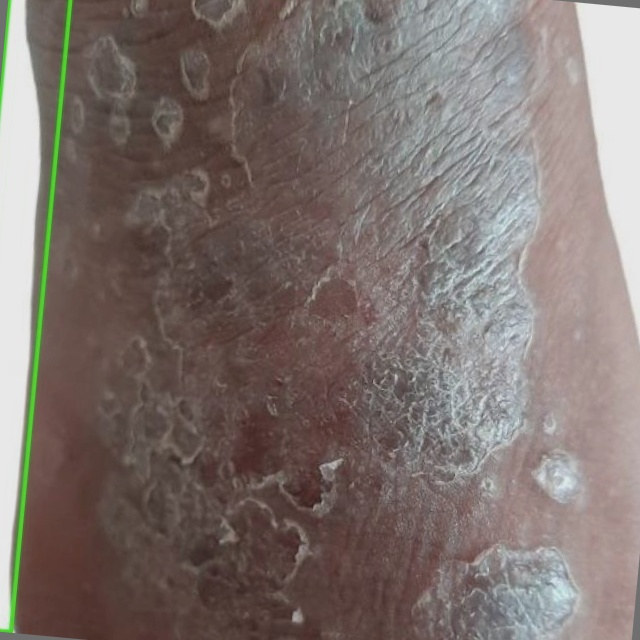Contact Dermatitis: (0, 0, 70, 631)
